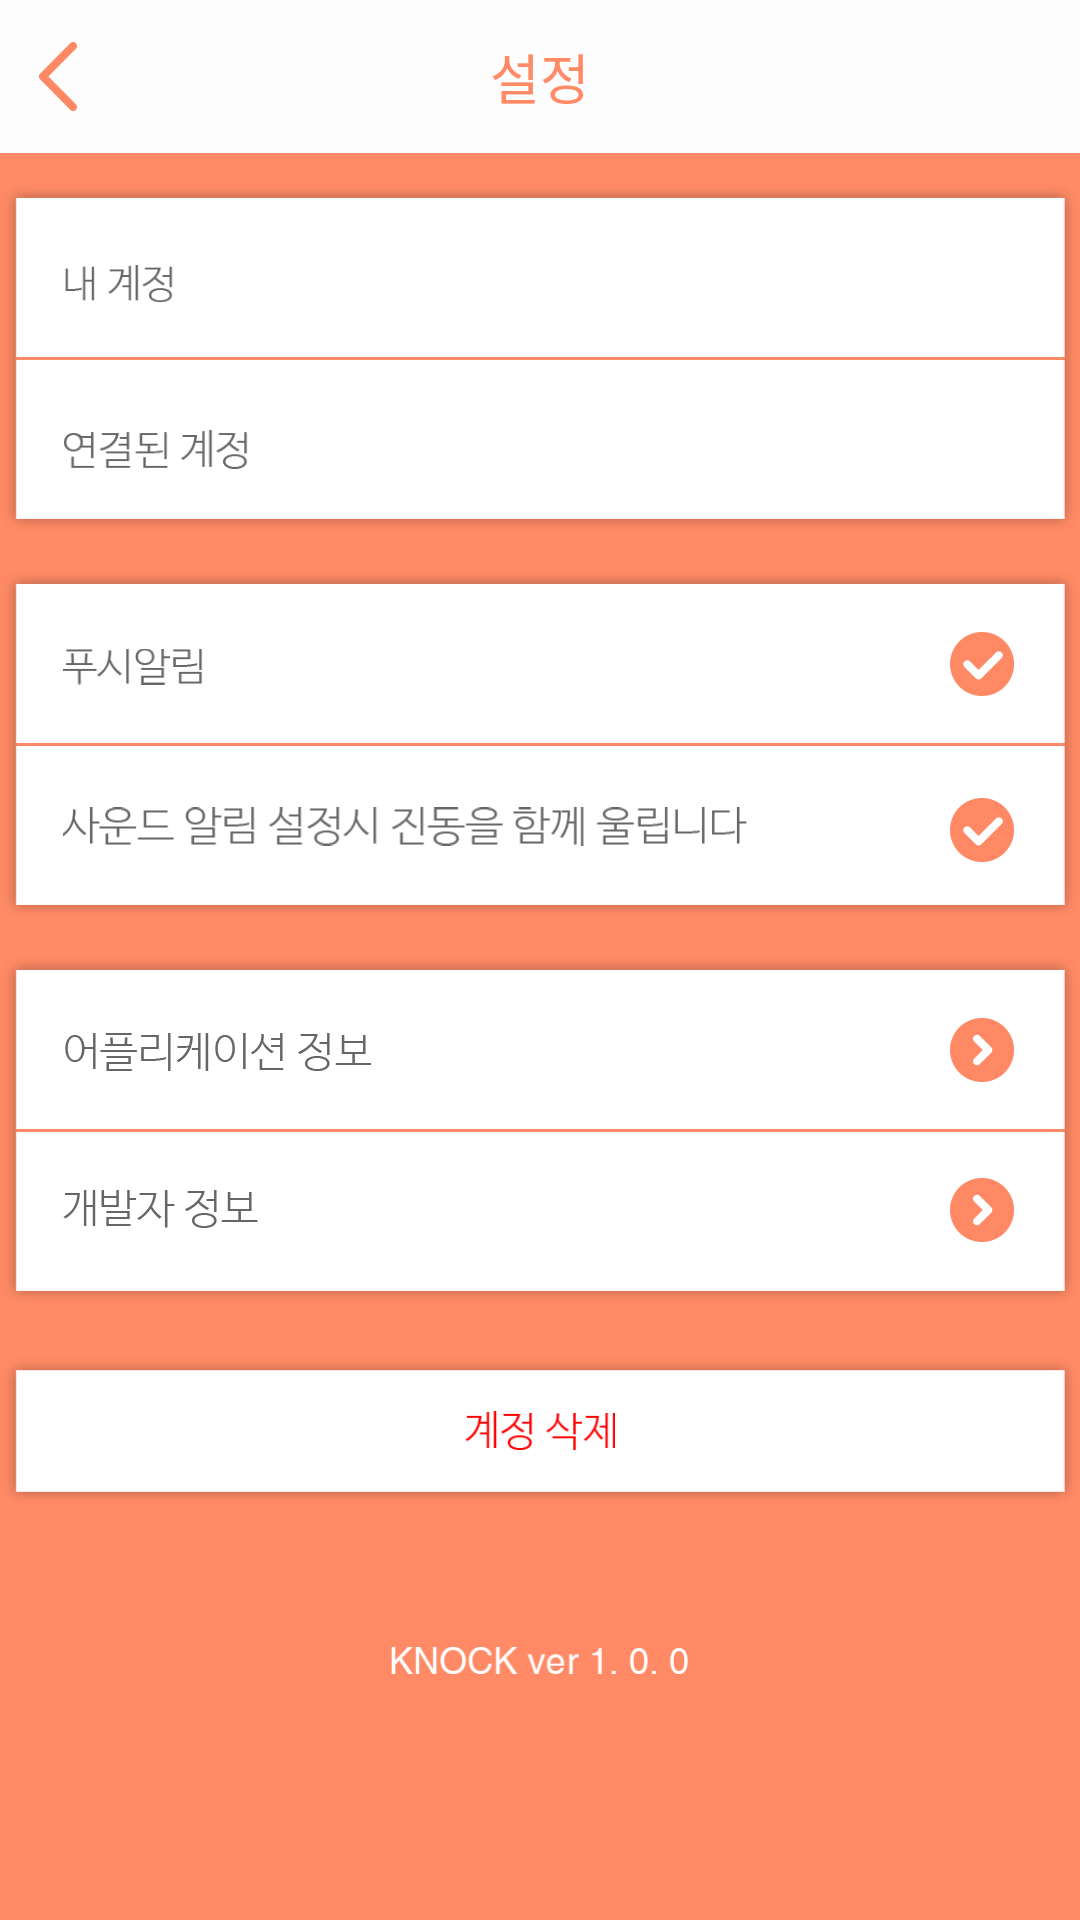

Named icons in this screenshot (1080×1920) and their centers, (x=x, y=y):
check: (x=982, y=664), (x=982, y=830)
